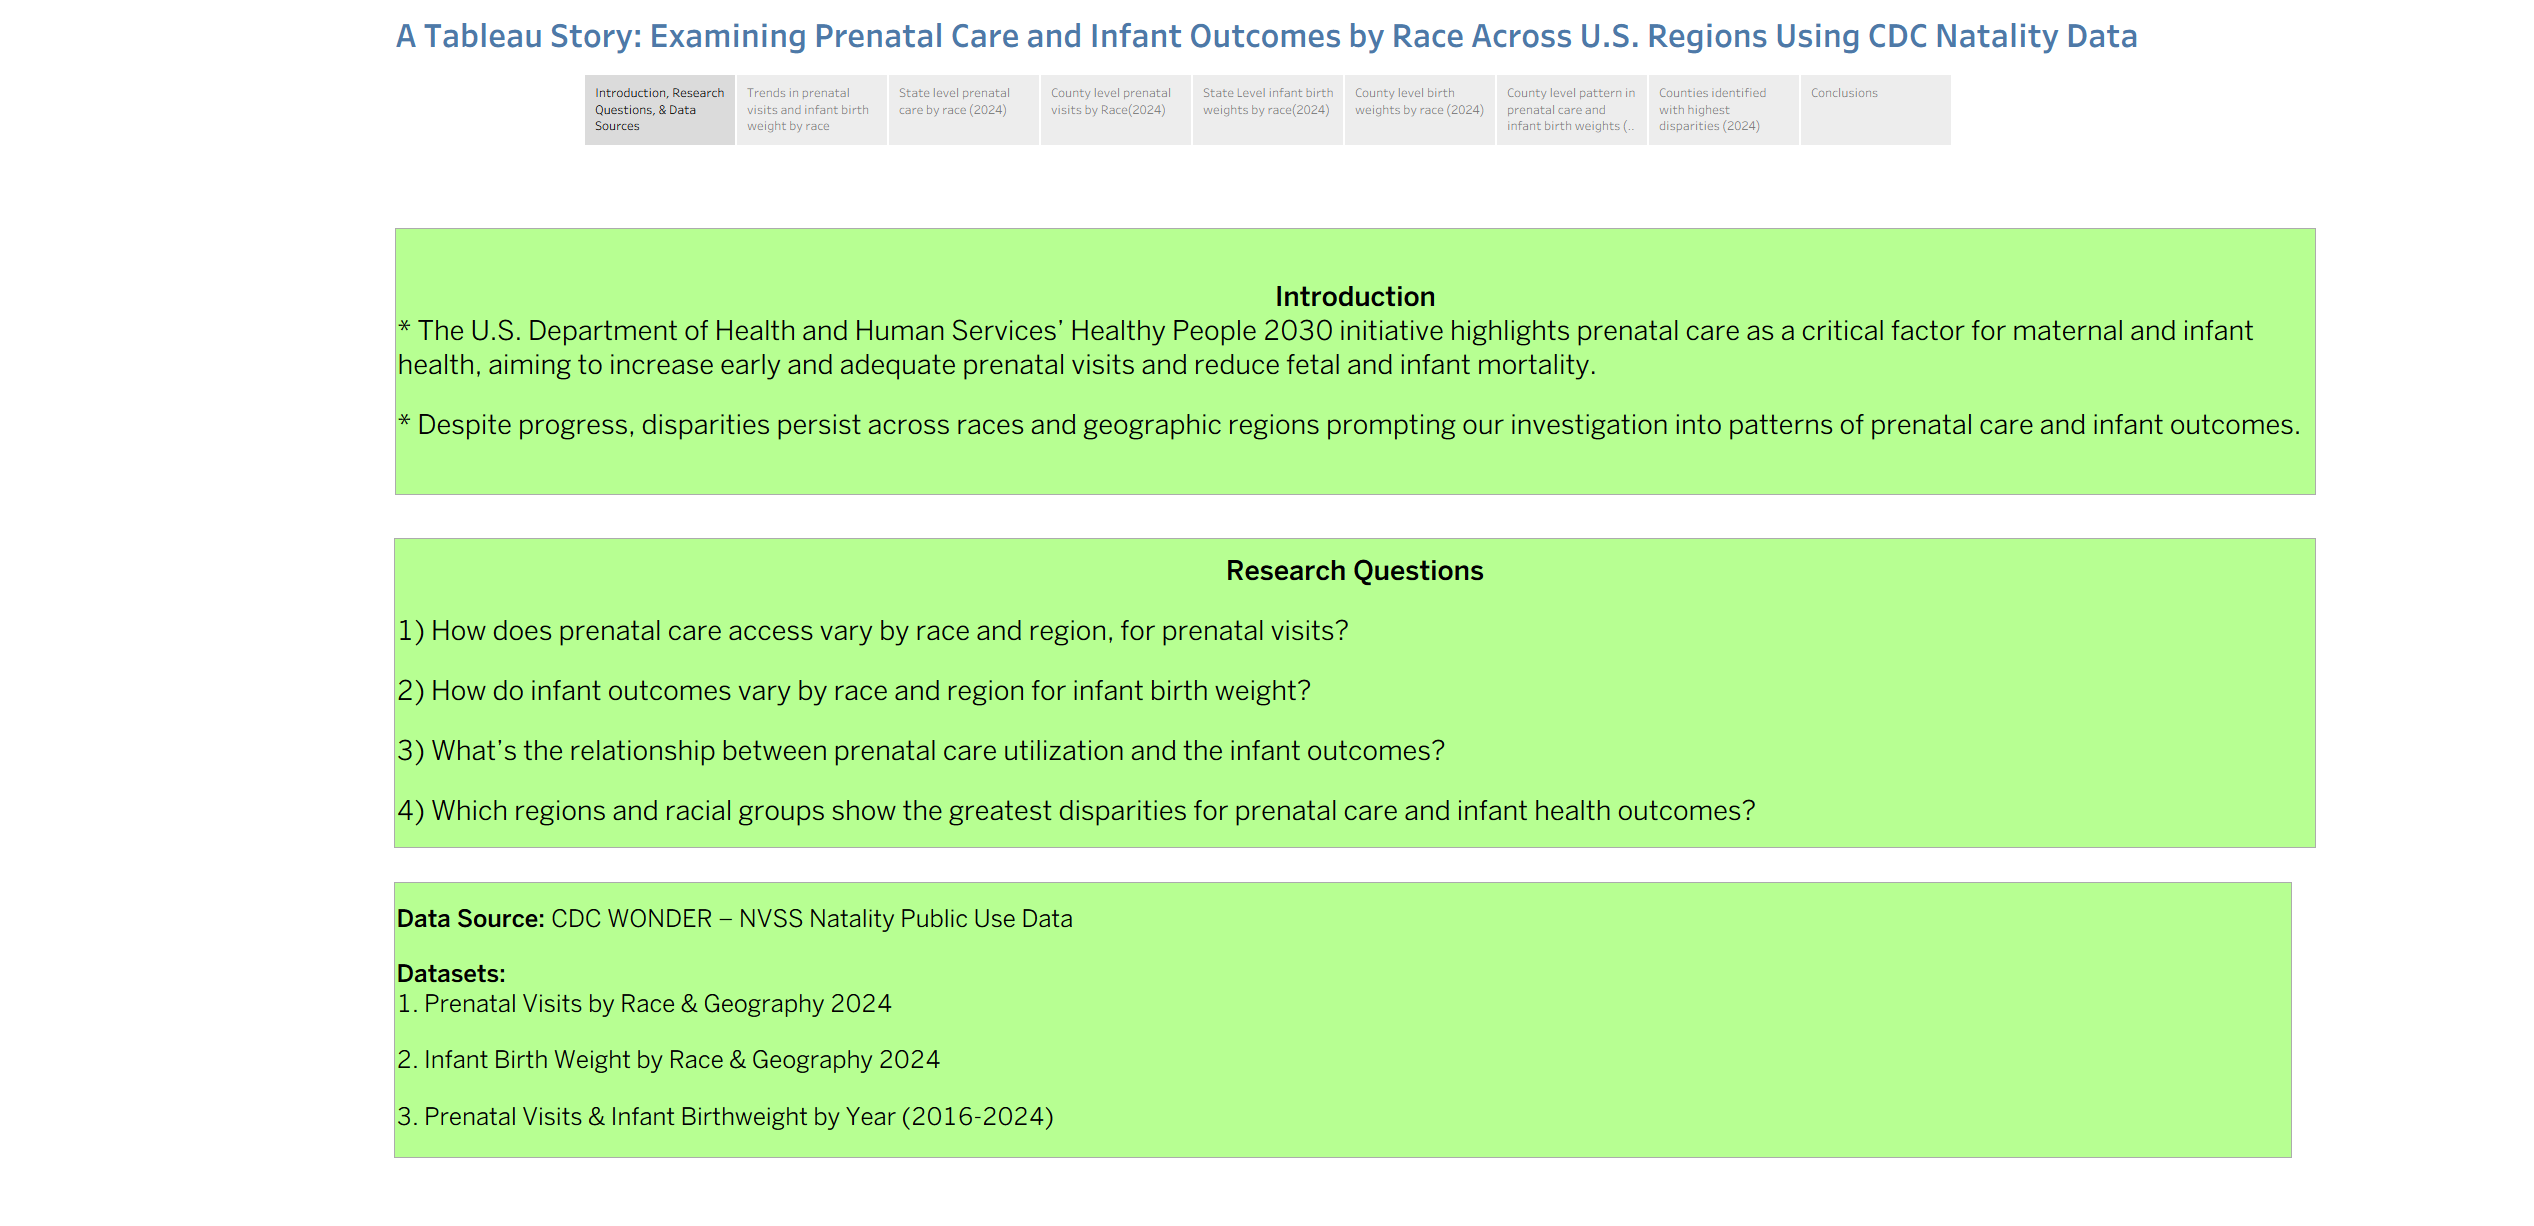

The dashboard page shown, as its layout file describes it:
{"tool":"tableau","page":{"name":"Dashboard G","canvas":[1424,668],"ordinal":6},"visuals":[{"type":"title","box":[8,8,1408,54]}]}

Visuals, with their boxes on the page's 1424x668 design canvas (x1, y1, x2, y2). These are canvas units, not pixel positions in the 2534x1226 screenshot, which may show the page scaled, cropped or inside an application window:
title: x1=8 y1=8 x2=1416 y2=62
